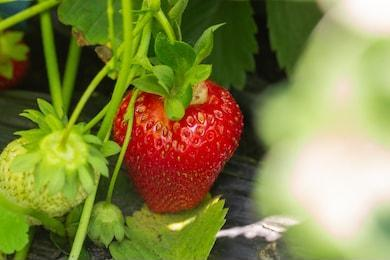Fresa: (110, 66, 247, 221)
